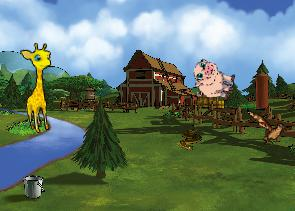eagle: (244, 108, 293, 147)
giraffe: (19, 41, 60, 134)
pig: (188, 56, 238, 104)
